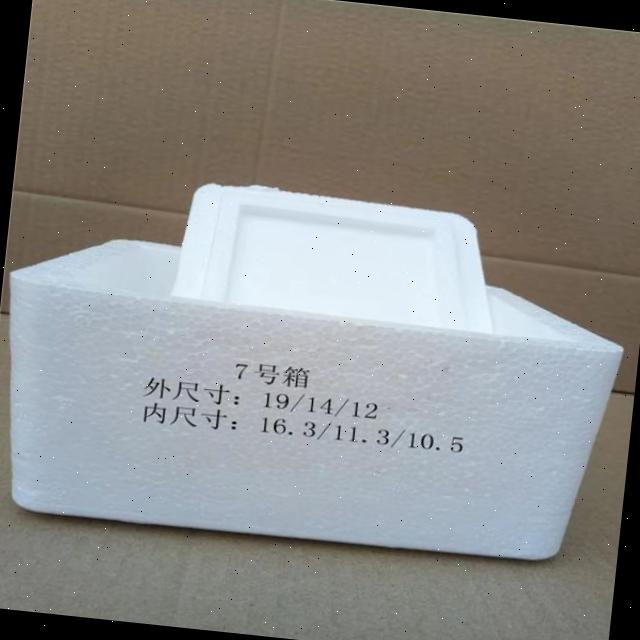styrofoam: (0, 158, 637, 573)
